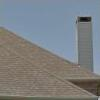Chimney: (69, 6, 100, 81)
